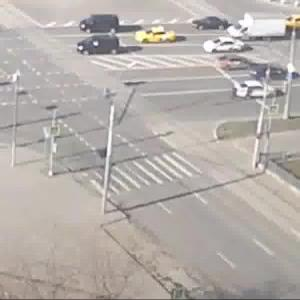car: (233, 6, 289, 46), (246, 60, 300, 78), (82, 34, 128, 53), (234, 87, 280, 103), (203, 39, 247, 55), (82, 13, 117, 29), (138, 30, 176, 43), (192, 17, 223, 32), (222, 60, 250, 70)
